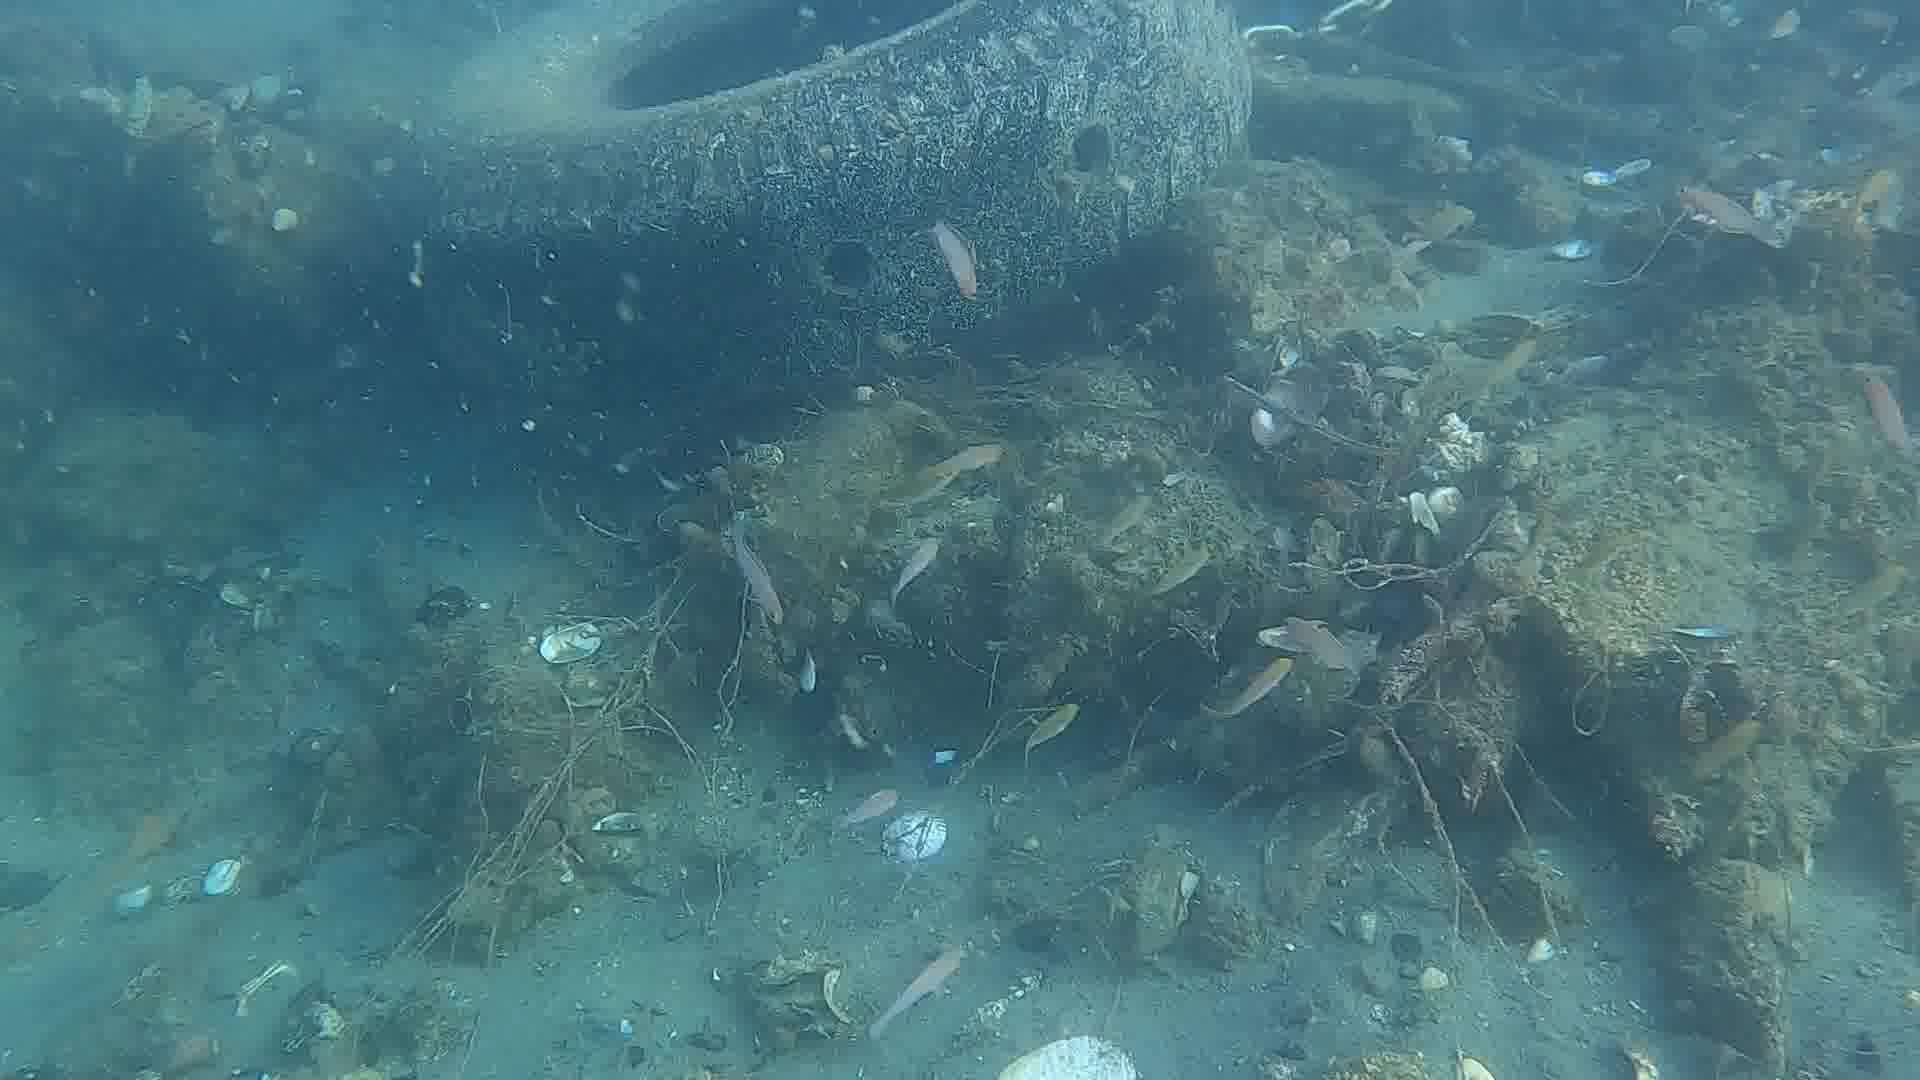tire: (410, 0, 1257, 405)
